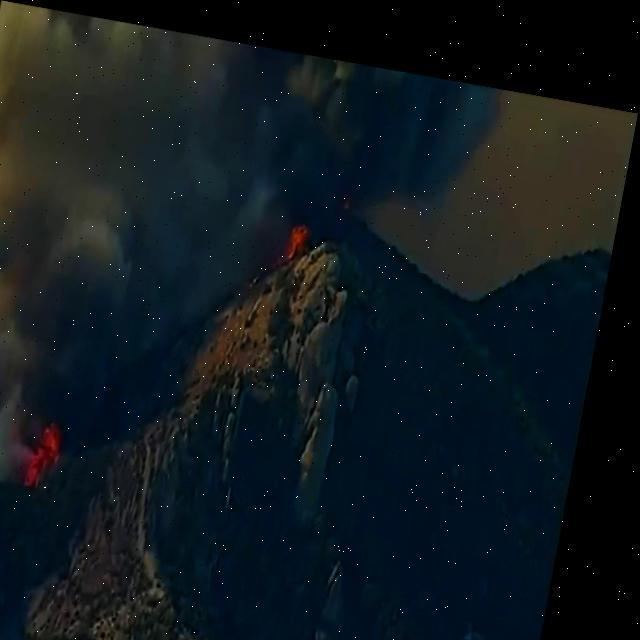Fire: (34, 416, 84, 486), (294, 210, 316, 247)
